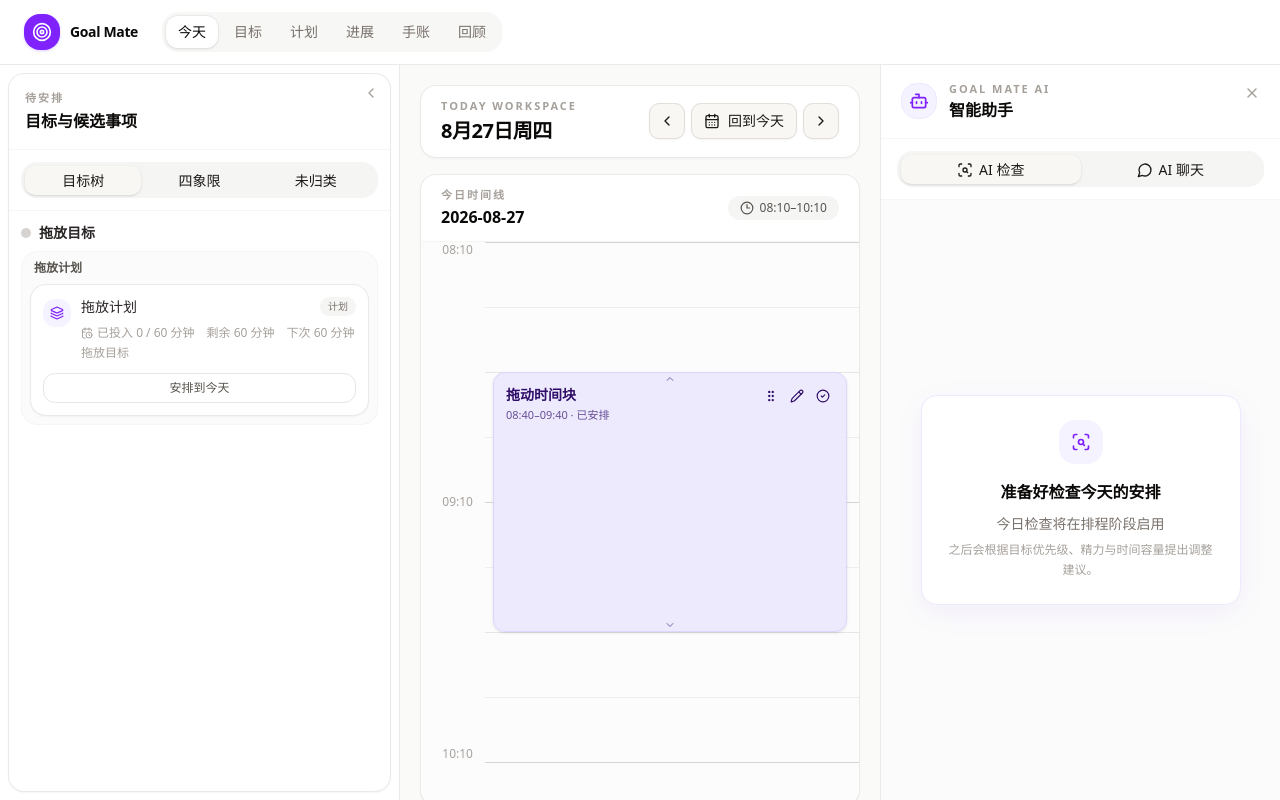
Scenario: TodayWorkspace timeline drag interactions › keeps one pending resize authoritative and ignores duplicate pointer completion
The image size is (1280, 800).
Expected: the text "拖动时间块" is shown, [506,385,576,404]
Press the mouse on the button named "调整 拖动时间块 的结束时间": (670, 625) [494,619,846,631]
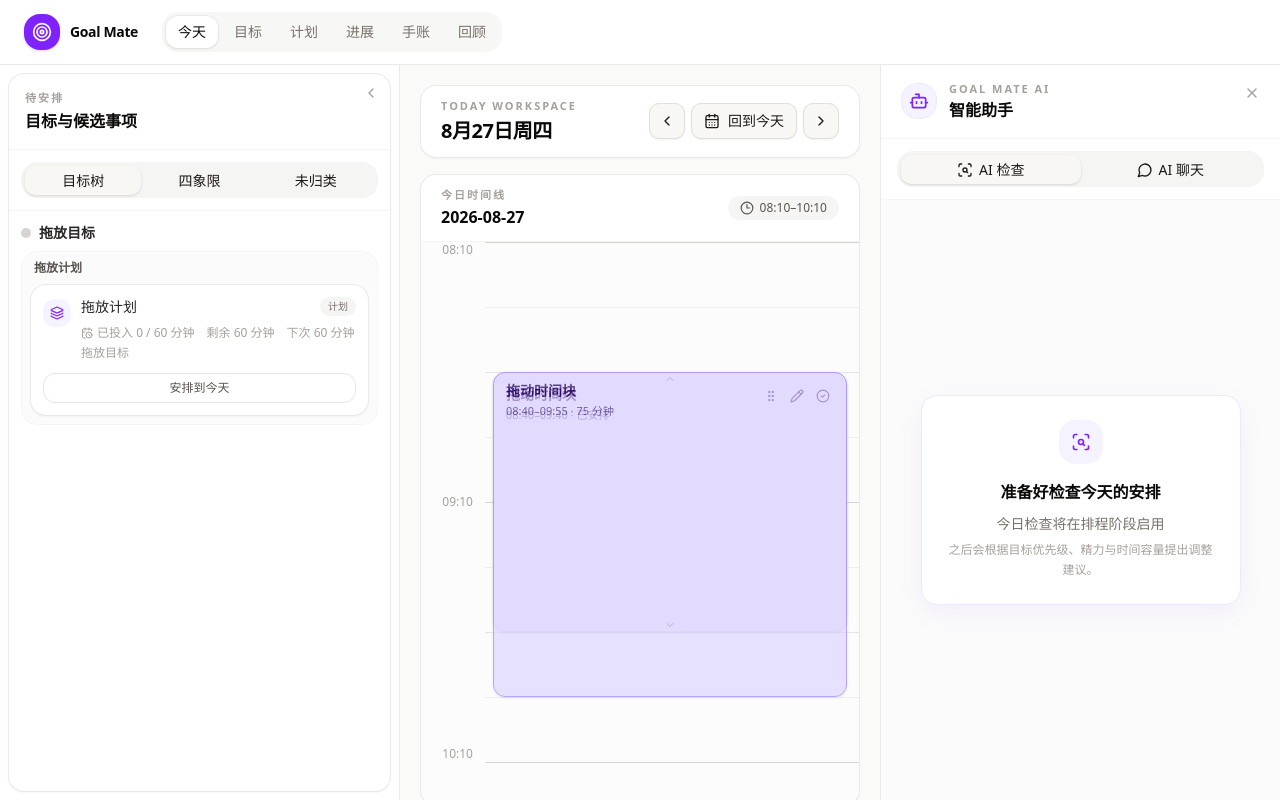
Now the button named "调整 拖动时间块 的结束时间" is disabled
Press the mouse on the button named "调整 拖动时间块 的结束时间": (670, 625) [494,619,846,631]
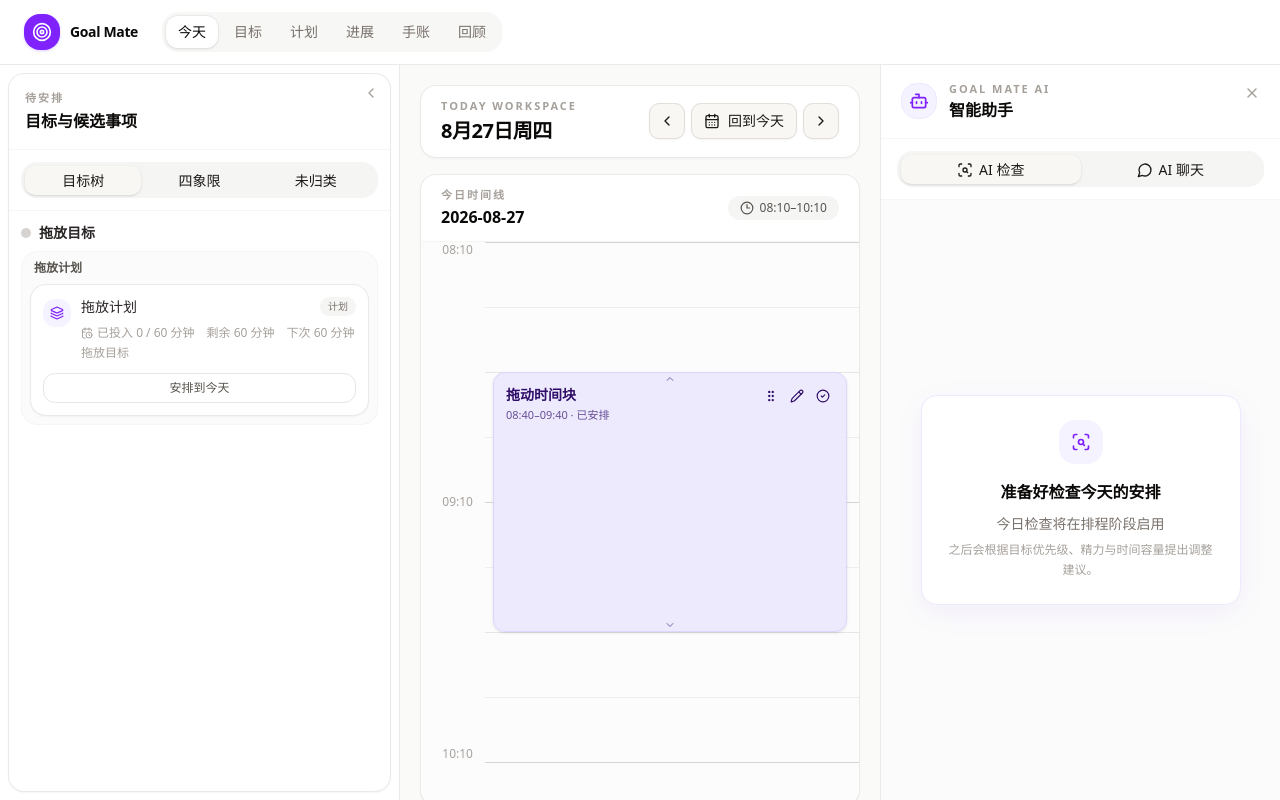
Now the element with test id "timeline-placement-preview" is gone
